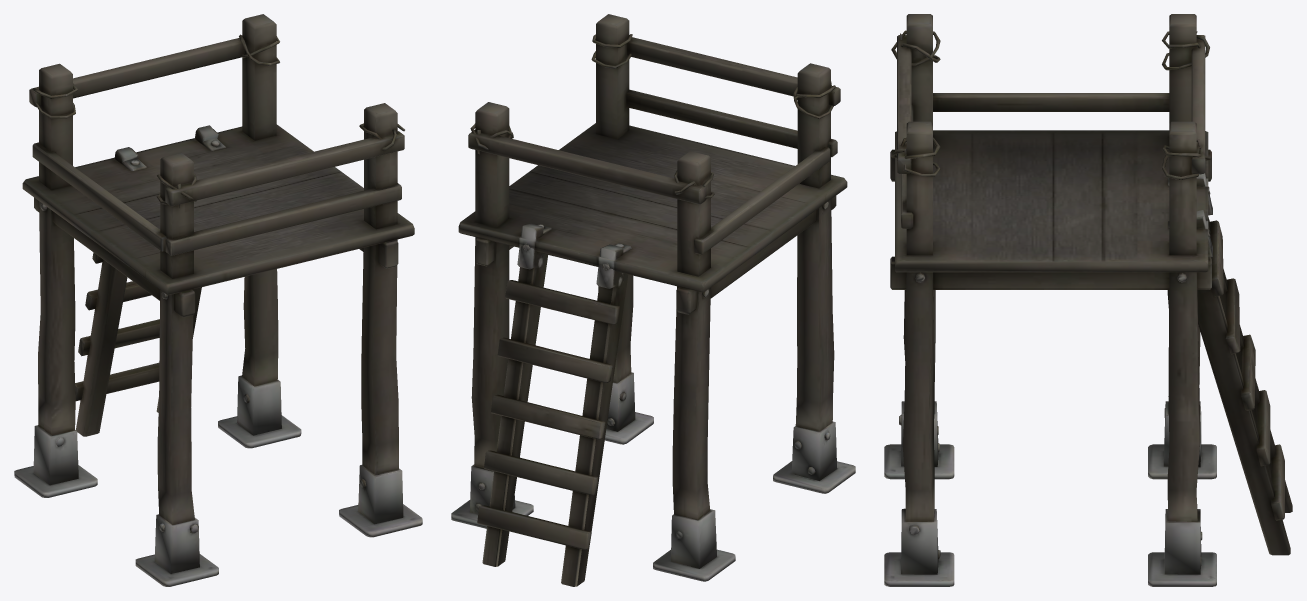
Rendered from watchtower.glb.
3 views of the same model, side by side, from view 1: azimuth 30°, elevation 25°; view 2: azimuth 150°, elevation 25°; view 3: azimuth 270°, elevation 25° (orthographic). The views are drawn at different scales.
Visible parts, largest first — view 1: model; view 2: model; view 3: model.
Part boxes in pixels (<box>): model: <box>14,14,422,586</box>; model: <box>451,14,855,586</box>; model: <box>884,14,1292,586</box>.
Size of the model in its own units: 0.6556 by 1 by 0.8239.
1 material, 1 textured.
